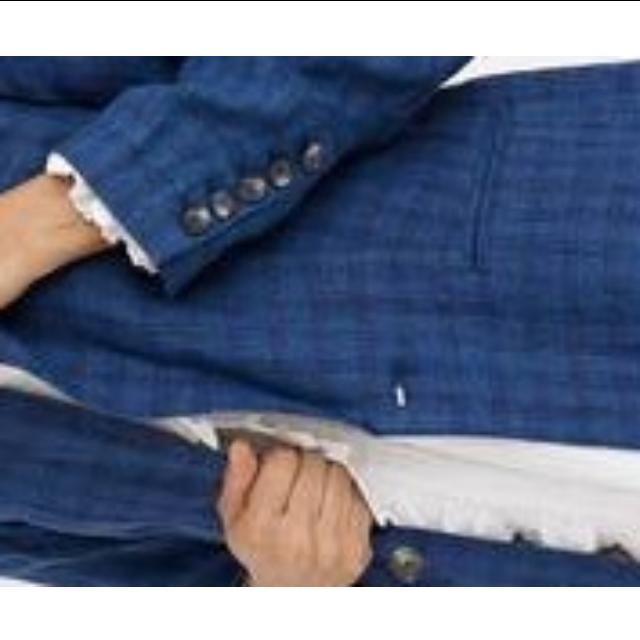linen: (0, 54, 640, 586)
